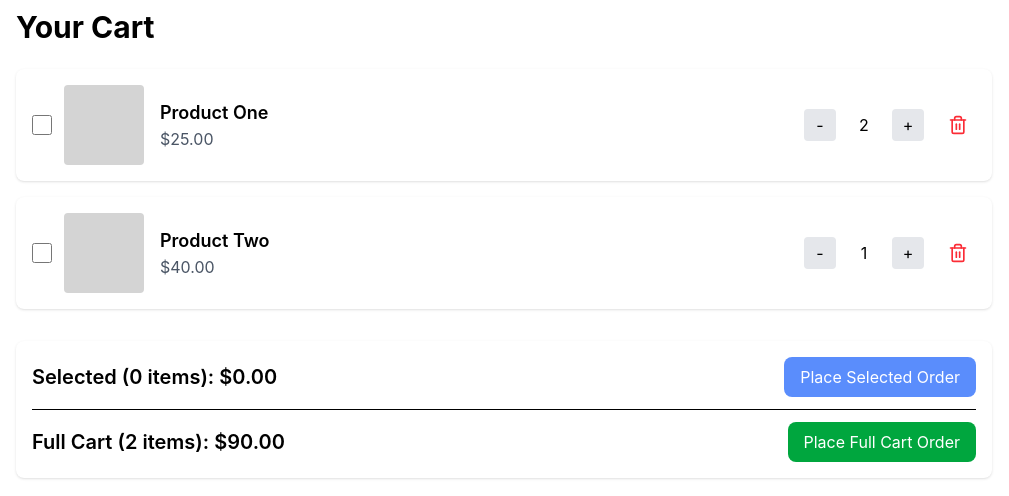
Test case: places order for selected items only
Check: the heading "Product One" is shown, box [160,102,268,123]
Check: the heading "Product Two" is shown, box [160,230,270,251]
Note: Select "Product One"
Step 1. Click the checkbox next to "Product One" → click(42, 125), box [32,115,52,135]
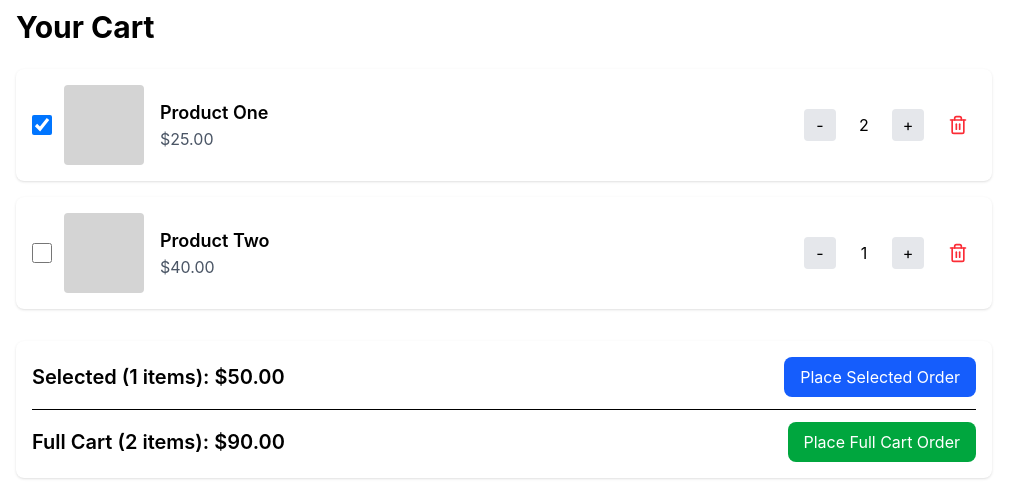
Note: Click "Place Selected Order" button
Step 2. Click the button "Place Selected Order" → click(880, 377), box [784,357,976,397]
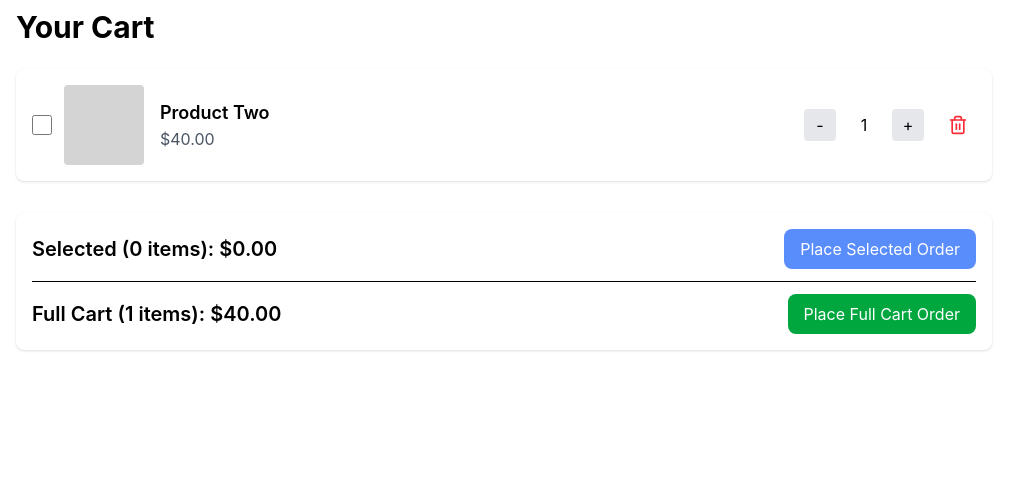
Check: the heading "Product Two" is shown, box [160,102,270,123]
Check: the heading "Product One" is gone
